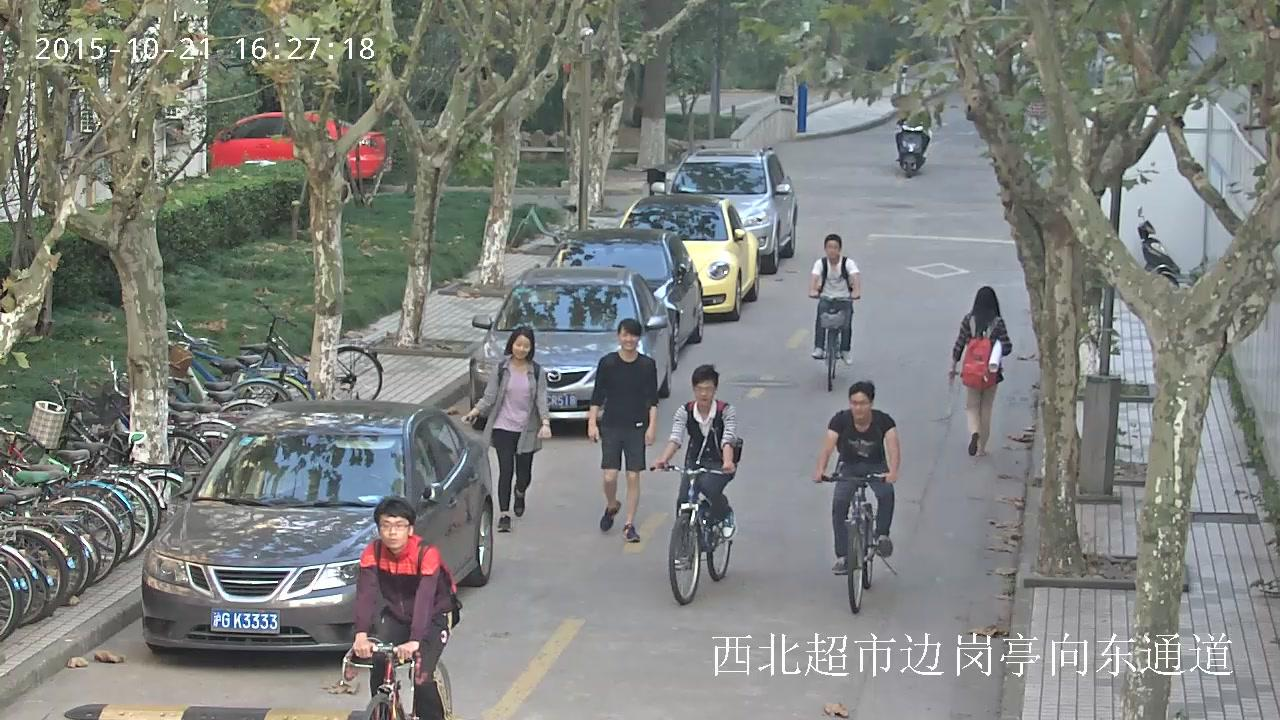person: (342, 494, 462, 720), (351, 494, 460, 720), (649, 364, 745, 605), (811, 381, 898, 613), (654, 363, 743, 572), (461, 325, 549, 533), (812, 382, 897, 575), (586, 316, 657, 542), (946, 285, 1012, 458), (806, 234, 863, 392), (807, 234, 862, 366), (895, 116, 930, 178), (895, 116, 930, 163)
